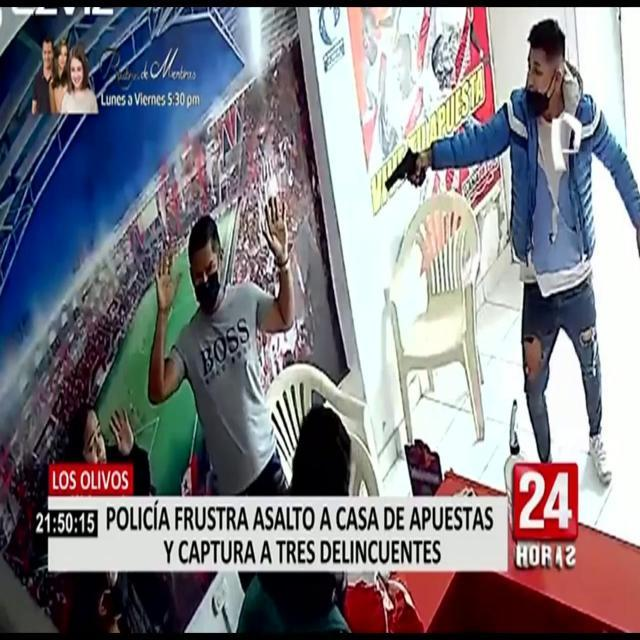weapon: (370, 125, 432, 215)
